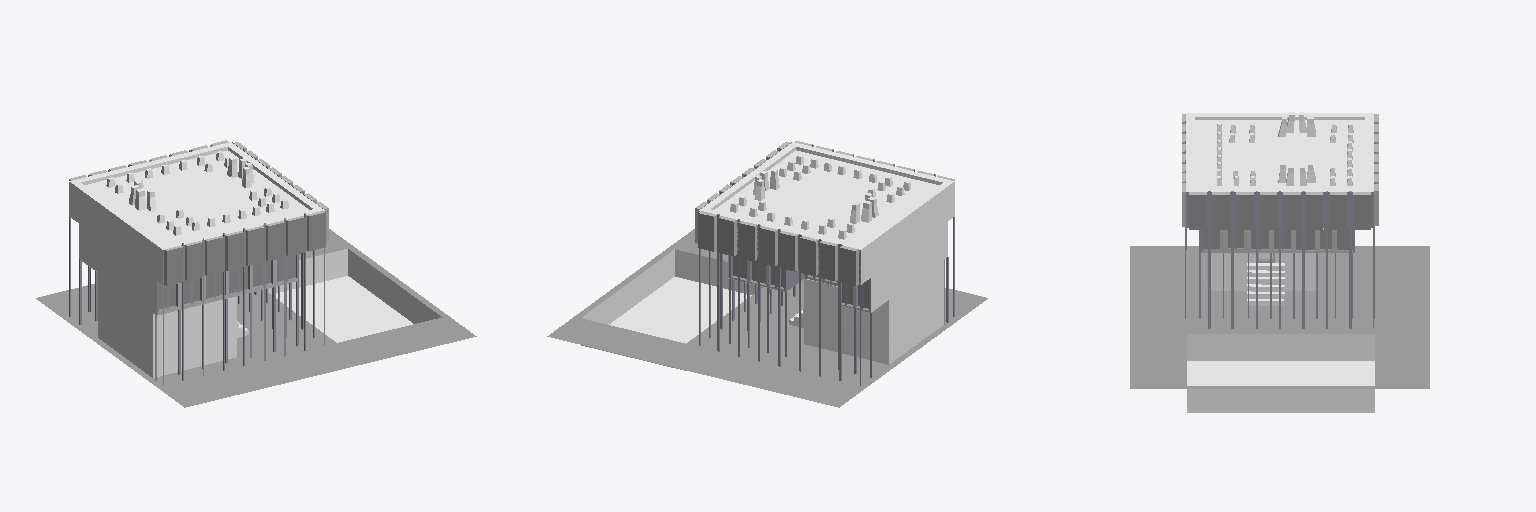
3 views of the same model, side by side, from view 1: azimuth 30°, elevation 25°; view 2: azimuth 150°, elevation 25°; view 3: azimuth 270°, elevation 25° (orthographic).
Visible parts, largest first — view 1: Cube.002, Plane, Cube.001_Cube.000; view 2: Cube.002, Plane, Cube.001_Cube.000; view 3: Plane, Cube.002, Cube.001_Cube.000.
Boxes of the visible parts, <box> form: Cube.002: <box>69,142,325,385</box>; Plane: <box>36,229,476,407</box>; Cube.001_Cube.000: <box>69,140,328,285</box>; Cube.002: <box>698,142,954,385</box>; Plane: <box>547,229,987,407</box>; Cube.001_Cube.000: <box>695,141,954,285</box>; Plane: <box>1130,246,1429,412</box>; Cube.002: <box>1185,112,1374,328</box>; Cube.001_Cube.000: <box>1182,114,1378,229</box>.
Bounding box in the file's own units: 18 × 10.45 × 16.
5 materials, 1 textured.